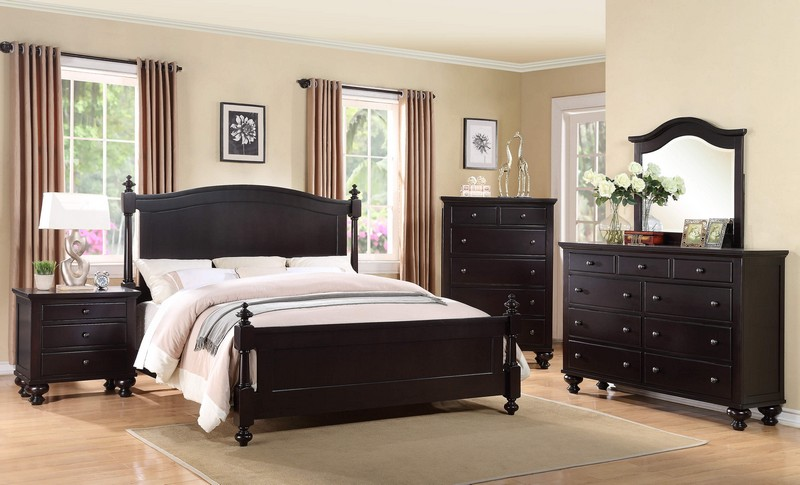bed: (118, 170, 526, 436)
lamp: (38, 189, 114, 294)
stool: (6, 282, 140, 396)
